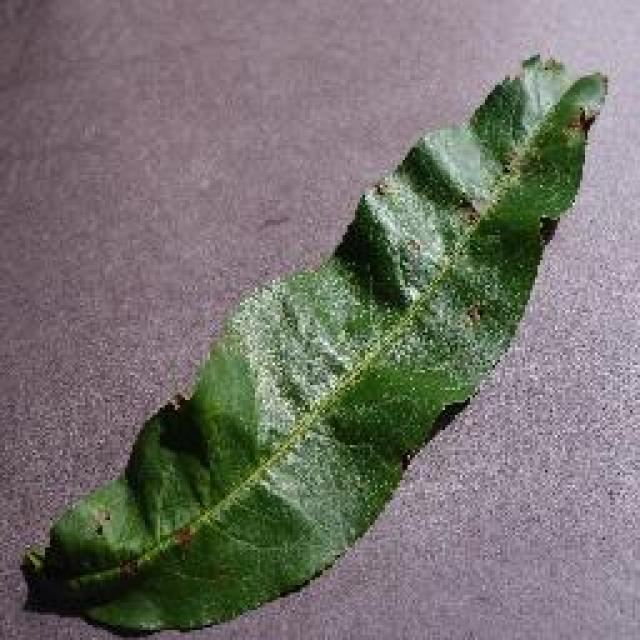Bacterial_spot: (24, 47, 615, 637)
